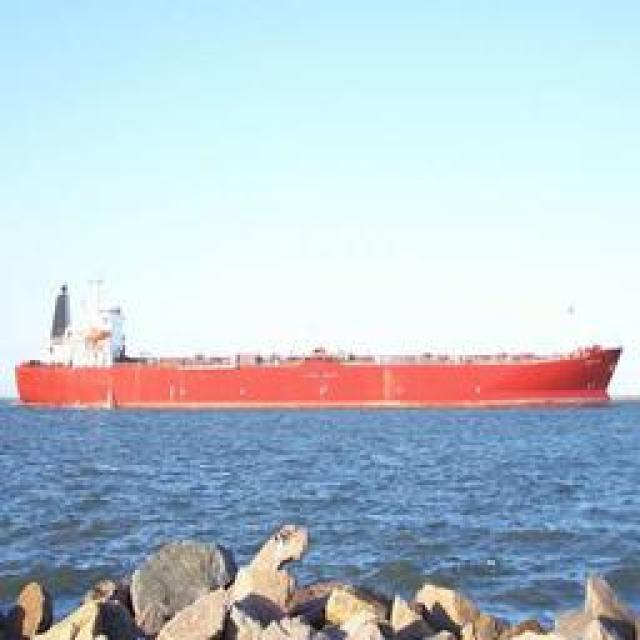Ship: (15, 308, 618, 413)
